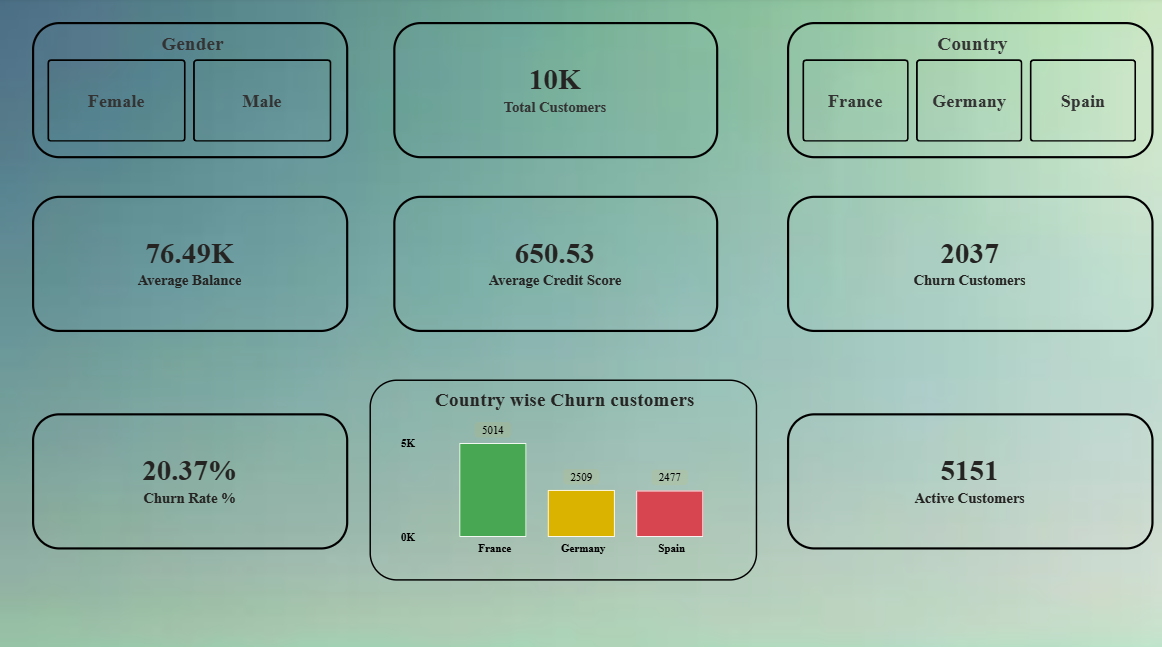

Layout of this report page (visuals, bound fields, positions):
{"tool":"powerbi","page":{"name":"Executive Summary","canvas":[1280,720],"ordinal":0},"visuals":[{"type":"advancedSlicerVisual","title":"Gender","fields":{"Values":["Bank Customer Churn Prediction.gender"]},"box":[37.9,28,347.5,149.8],"z":0},{"type":"advancedSlicerVisual","title":"Country","fields":{"Values":["Bank Customer Churn Prediction.country"]},"box":[867.6,28,402.4,149.8],"z":1000},{"type":"cardVisual","fields":{"Data":["Bank Customer Churn Prediction.Total Customers"]},"box":[434.3,28,356.4,149.8],"z":2000},{"type":"columnChart","title":"Country wise Churn customers","fields":{"Category":["Bank Customer Churn Prediction.country"],"Y":["CountNonNull(Bank Customer Churn Prediction.customer_id)"]},"box":[409.4,420.3,425.3,220.7],"z":3000},{"type":"cardVisual","fields":{"Data":["Bank Customer Churn Prediction.Average Balance"]},"box":[37.9,217.7,347.5,149.8],"z":4000},{"type":"cardVisual","fields":{"Data":["Bank Customer Churn Prediction.Average Credit Score"]},"box":[434.3,217.7,356.4,149.8],"z":5000},{"type":"cardVisual","fields":{"Data":["Bank Customer Churn Prediction.Churn Customers"]},"box":[867.6,217.7,402.4,149.8],"z":6000},{"type":"cardVisual","fields":{"Data":["Bank Customer Churn Prediction.Churn Rate %"]},"box":[37.9,456.3,347.5,149.8],"z":7000},{"type":"cardVisual","fields":{"Data":["Bank Customer Churn Prediction.Active Customers"]},"box":[867.6,456.3,402.4,149.8],"z":8000}]}

Visuals, with their boxes in screenshot pixels (x1, y1, x2, y2), scaled from the page's 1280x720 canvas onto the 1162x647 screenshot:
"Gender" advancedSlicerVisual: [left=34, top=25, right=350, bottom=160]
"Country" advancedSlicerVisual: [left=788, top=25, right=1153, bottom=160]
cardVisual - Bank Customer Churn Prediction.Total Customers: [left=394, top=25, right=718, bottom=160]
"Country wise Churn customers" columnChart: [left=372, top=378, right=758, bottom=576]
cardVisual - Bank Customer Churn Prediction.Average Balance: [left=34, top=196, right=350, bottom=330]
cardVisual - Bank Customer Churn Prediction.Average Credit Score: [left=394, top=196, right=718, bottom=330]
cardVisual - Bank Customer Churn Prediction.Churn Customers: [left=788, top=196, right=1153, bottom=330]
cardVisual - Bank Customer Churn Prediction.Churn Rate %: [left=34, top=410, right=350, bottom=545]
cardVisual - Bank Customer Churn Prediction.Active Customers: [left=788, top=410, right=1153, bottom=545]
